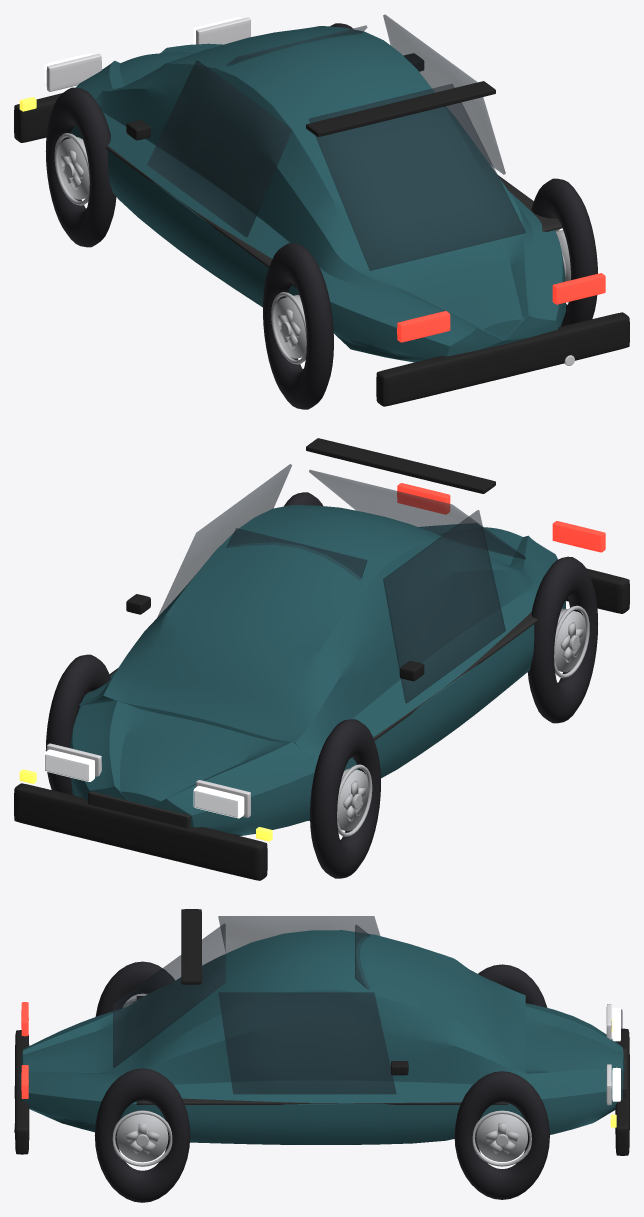
File: car_gt20.glb
The picture shows the model from 3 angles, top to bottom: view 1: azimuth 30°, elevation 25°; view 2: azimuth 150°, elevation 25°; view 3: azimuth 270°, elevation 25°; orthographic projection. The views are drawn at different scales.
Parts seen in each view (by area): view 1: GT20_Body, GT20_RG, GT20_SG-1, GT20_BumperR, Wheel_RL_Tire, Wheel_FL_Tire, GT20_SG1, Wheel_RR_Tire, GT20_RoofWing, GT20_Belt, GT20_Bez-1, GT20_BumperF (+8 smaller); view 2: GT20_Body, GT20_SG-1, GT20_BumperF, Wheel_RL_Tire, Wheel_FL_Tire, GT20_RG, GT20_SG1, Wheel_FR_Tire, GT20_RoofWing, GT20_WS, GT20_Grille, GT20_BumperR (+11 smaller); view 3: GT20_Body, GT20_SG1, Wheel_RR_Tire, Wheel_FR_Tire, GT20_RG, GT20_SG-1, Wheel_RL_Tire, GT20_RoofWing, Wheel_RR_Barrel, Wheel_FR_Barrel, GT20_BumperR, Wheel_FL_Tire (+5 smaller).
Boxes of the visible parts, x1,y1,x2,y2 form: GT20_Body: (68, 26, 565, 362); GT20_RG: (309, 84, 525, 270); GT20_SG-1: (147, 60, 291, 237); GT20_BumperR: (376, 312, 629, 406); Wheel_RL_Tire: (263, 243, 333, 409); Wheel_FL_Tire: (45, 87, 116, 247); GT20_SG1: (383, 14, 505, 174); Wheel_RR_Tire: (531, 178, 597, 326); GT20_RoofWing: (306, 81, 495, 136); GT20_Belt: (105, 145, 562, 287); GT20_Bez-1: (46, 54, 101, 91); GT20_BumperF: (14, 93, 62, 142); GT20_Body: (70, 505, 565, 835); GT20_SG-1: (383, 510, 505, 703); GT20_BumperF: (14, 783, 267, 880); Wheel_RL_Tire: (527, 556, 597, 723); Wheel_FL_Tire: (310, 719, 380, 878); GT20_RG: (309, 470, 525, 559); GT20_SG1: (157, 464, 291, 617); Wheel_FR_Tire: (45, 654, 110, 795); GT20_RoofWing: (306, 438, 495, 493); GT20_WS: (226, 528, 367, 580); GT20_Grille: (88, 791, 190, 828); GT20_BumperR: (566, 568, 629, 613); GT20_Body: (19, 930, 624, 1144); GT20_SG1: (218, 992, 396, 1094); Wheel_RR_Tire: (94, 1068, 190, 1202); Wheel_FR_Tire: (454, 1071, 549, 1199); GT20_RG: (113, 923, 225, 1067); GT20_SG-1: (218, 916, 380, 953); Wheel_RL_Tire: (95, 961, 174, 1016); GT20_RoofWing: (181, 909, 201, 984); Wheel_RR_Barrel: (116, 1110, 168, 1162); Wheel_FR_Barrel: (476, 1114, 527, 1161); GT20_BumperR: (14, 1030, 29, 1154); Wheel_FL_Tire: (478, 964, 547, 1007).
Bounding box in the file's own units: 1.88 × 1.52 × 4.14.
